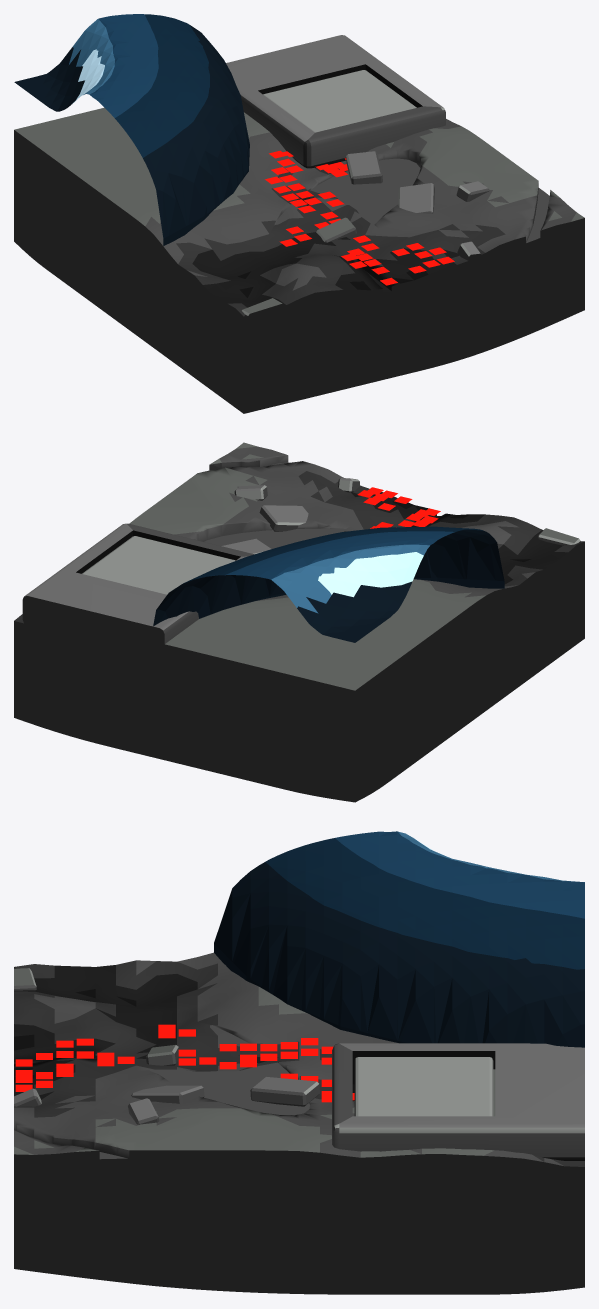
File: camanis_boss_131.glb
3 views of the same model, one above another, from view 1: azimuth 30°, elevation 25°; view 2: azimuth 150°, elevation 25°; view 3: azimuth 270°, elevation 25° (orthographic). The views are drawn at different scales.
Parts seen in each view (by area): view 1: camanis_boss_131; view 2: camanis_boss_131; view 3: camanis_boss_131.
Part boxes in pixels (<box>): camanis_boss_131: <box>14,14,584,413</box>; camanis_boss_131: <box>14,442,584,802</box>; camanis_boss_131: <box>14,831,584,1294</box>.
Size of the model in its own units: 24 by 13.91 by 28.
